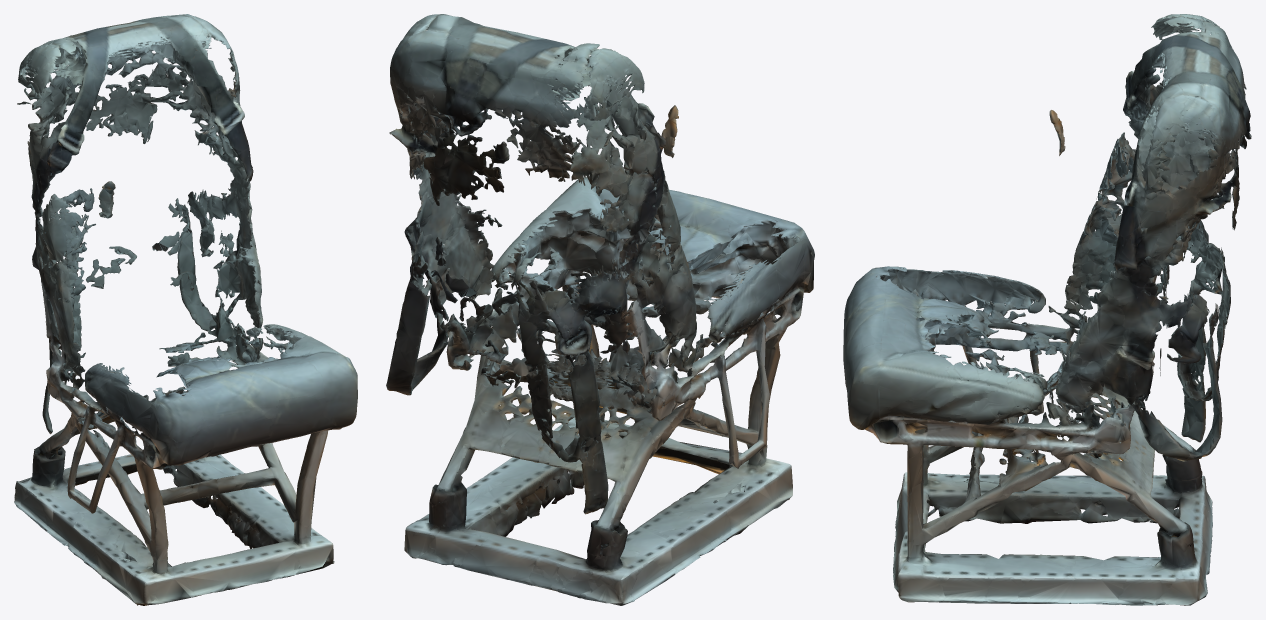
File: cadeira.glb
3 renders of one model, left to right at view 1: azimuth 30°, elevation 25°; view 2: azimuth 150°, elevation 25°; view 3: azimuth 270°, elevation 25°, orthographic. The views are drawn at different scales.
Parts seen in each view (by area): view 1: 3DModel; view 2: 3DModel; view 3: 3DModel.
Part boxes in pixels (left/top/right/bottom): 3DModel: left=14, top=14, right=357, bottom=605; 3DModel: left=386, top=14, right=814, bottom=605; 3DModel: left=843, top=14, right=1251, bottom=605.
Size of the model in its own units: 1.29 by 2.51 by 1.8.
1 material, 1 textured.
